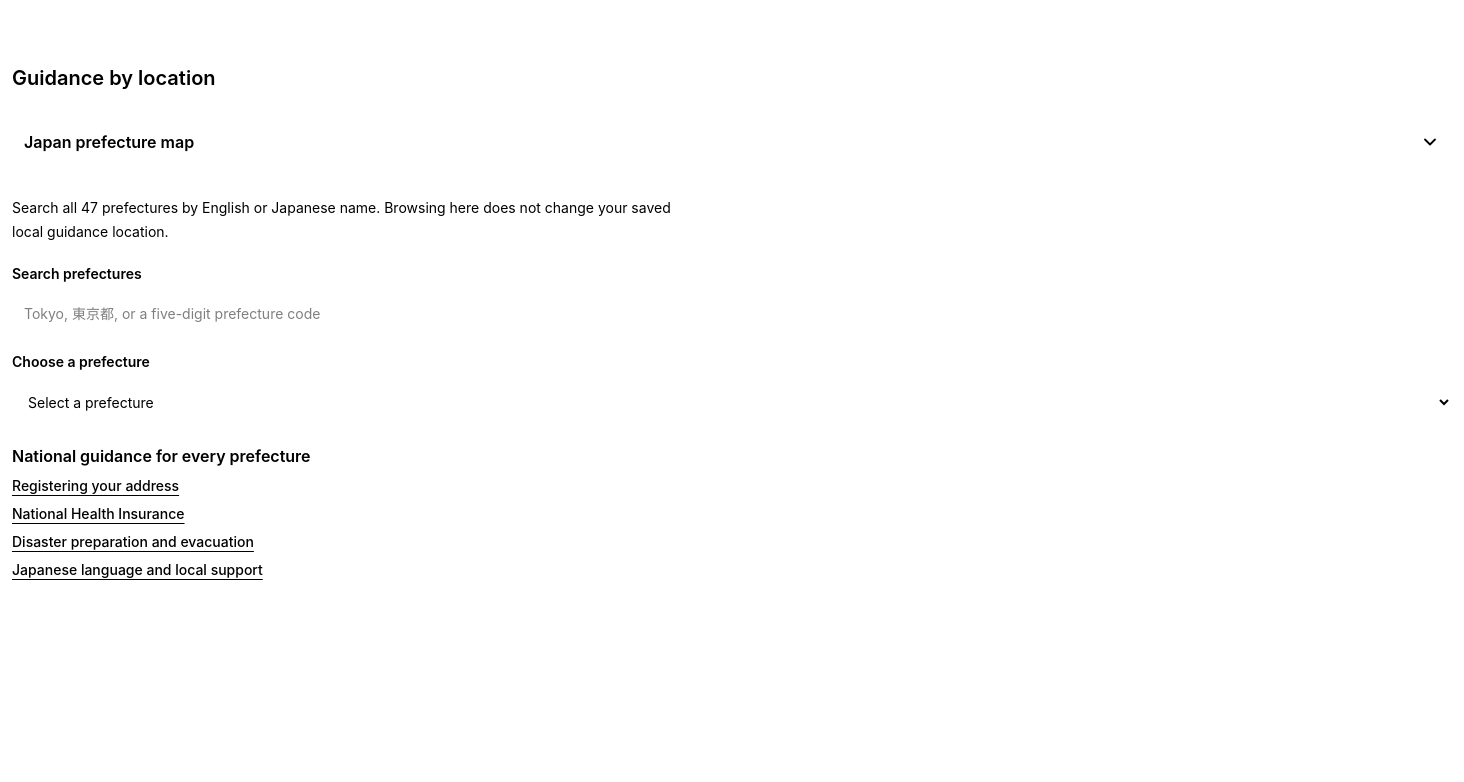
Test: PrefectureFinder › lists a designated city once and notes that its wards may differ
Select "Aichi · 愛知県" in the dropdown labelled "Choose a prefecture": {"x": 732, "y": 402} [12, 380, 1452, 424]
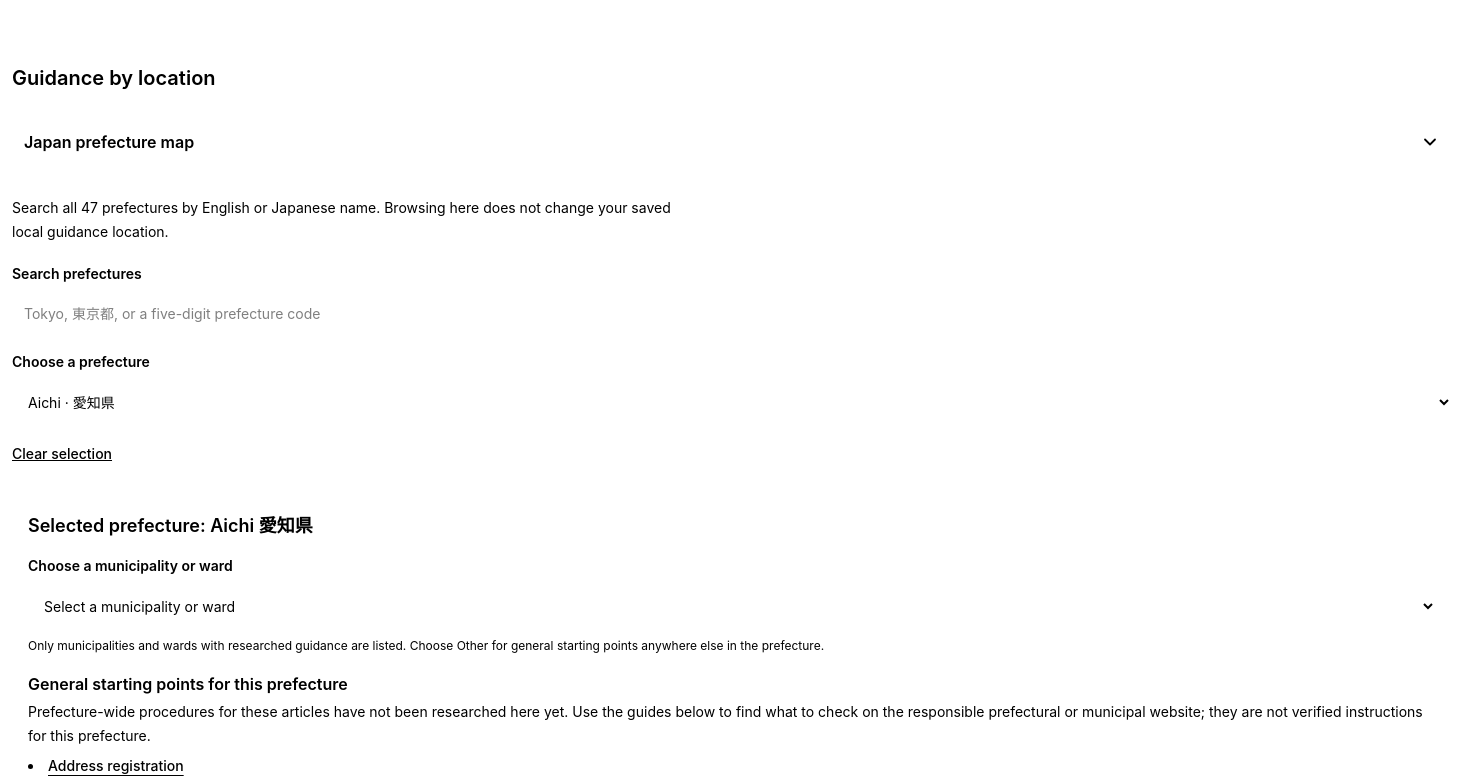
Select "Nagoya City" in the dropdown labelled "Choose a municipality or ward": {"x": 732, "y": 606} [28, 584, 1436, 628]
(page scrolled)
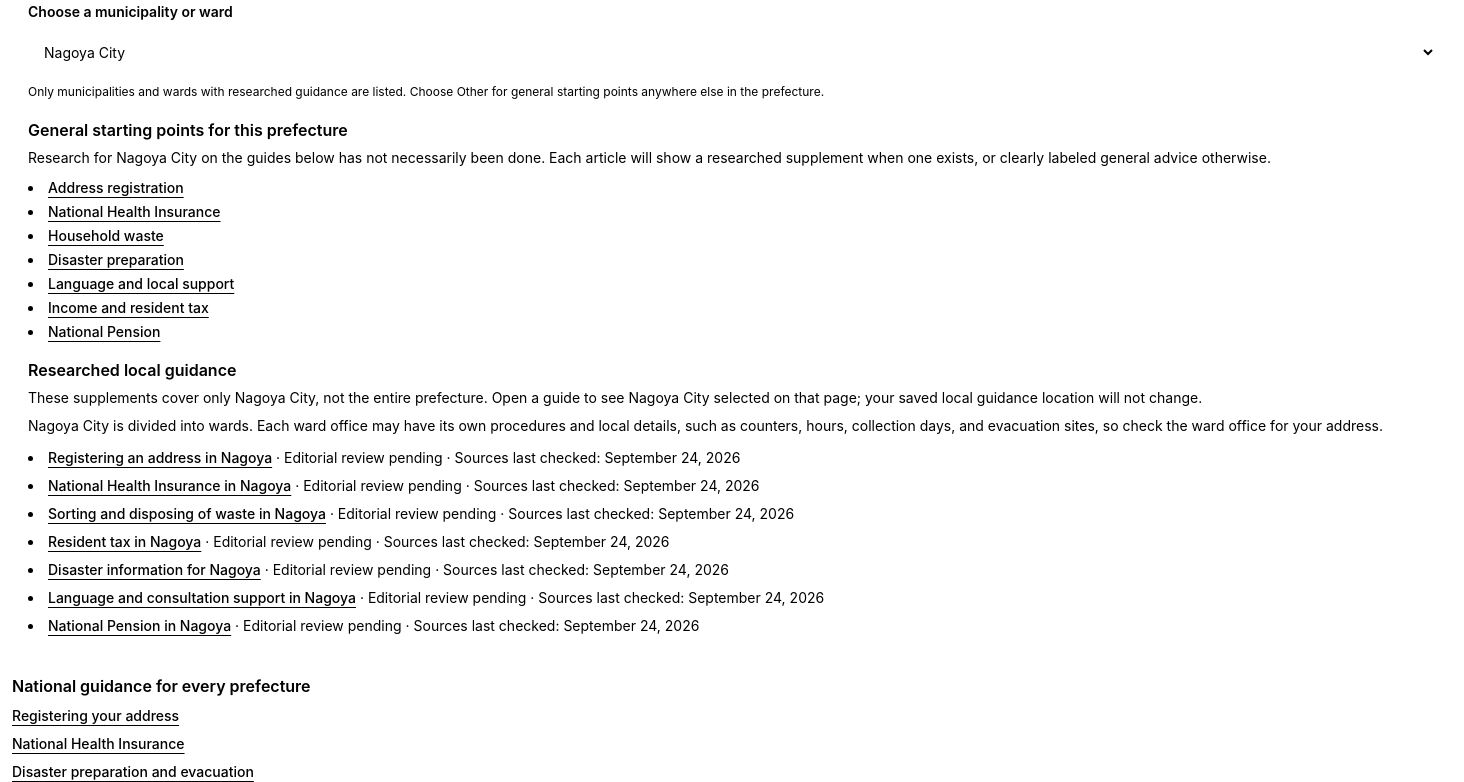
Expected: the text "Nagoya City is divided into wards. Each ward office may have its own procedures" is shown, [28, 417, 1383, 434]
